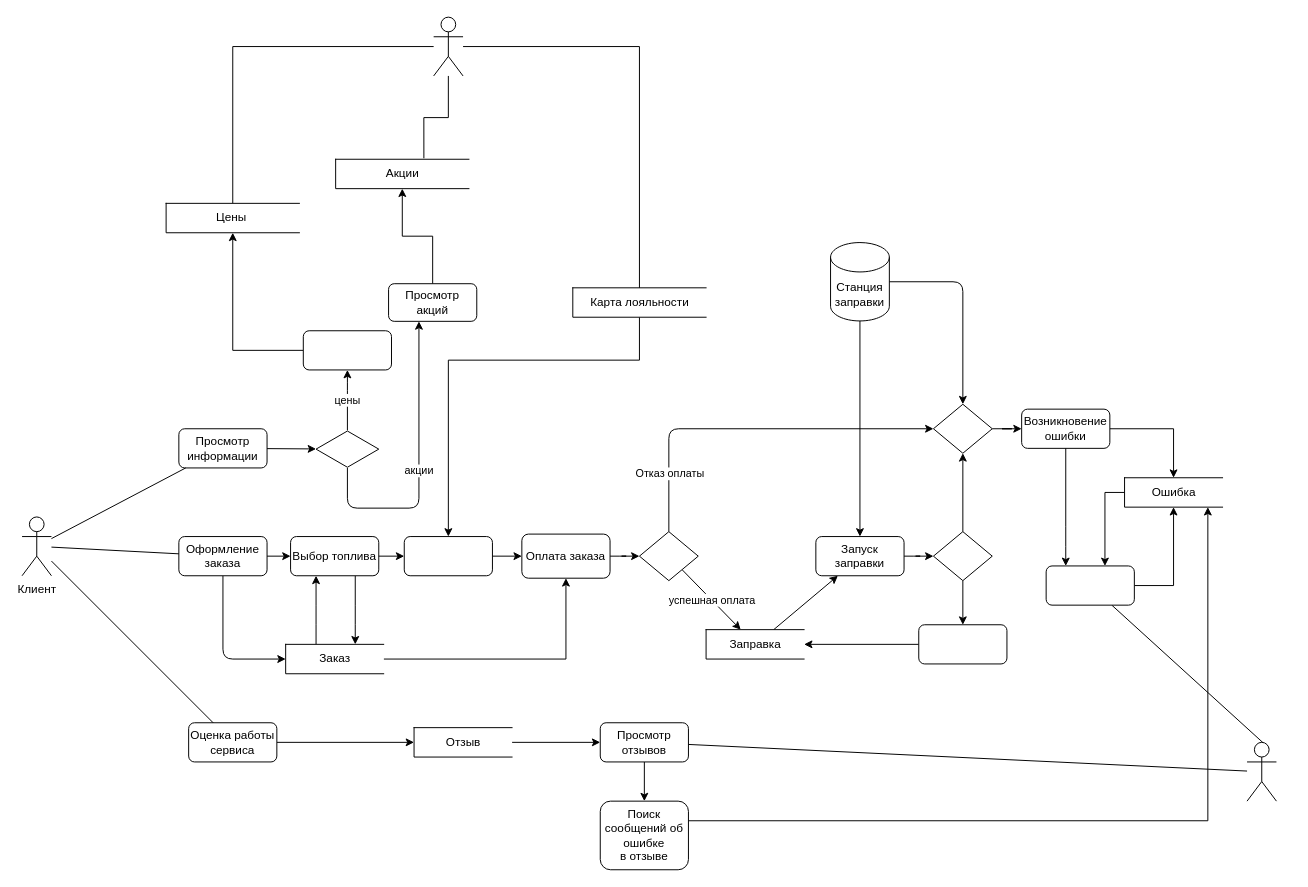
Image size: 1308x887. Some labels were removed from this diagram. Here are the shapes that lost their labels. From the top down, the box of each, then its label:
(433, 16, 463, 76): Администратор
(302, 330, 392, 370): Просмотр цен
(403, 536, 492, 576): Использование карты лояльности
(1045, 565, 1134, 605): Исправление ошибки
(918, 624, 1007, 664): Завершение заправки
(1246, 741, 1276, 801): Заправщик
